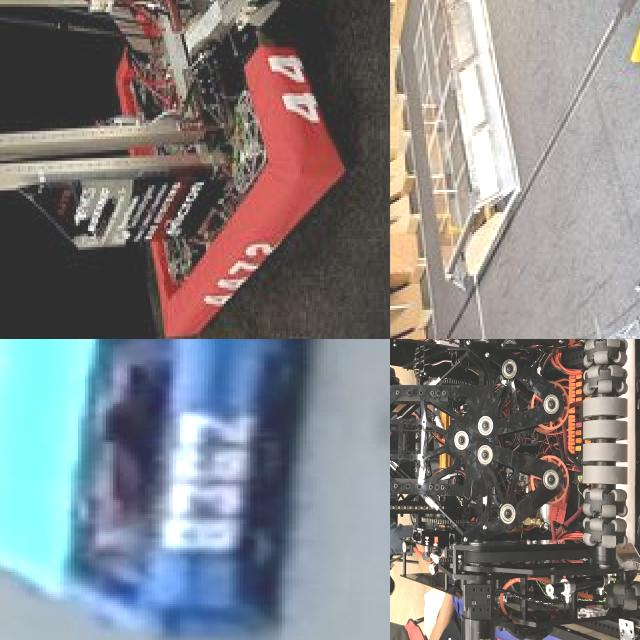FRC-Robots: (0, 0, 377, 339), (0, 339, 317, 640), (390, 339, 640, 640), (390, 109, 640, 339)
